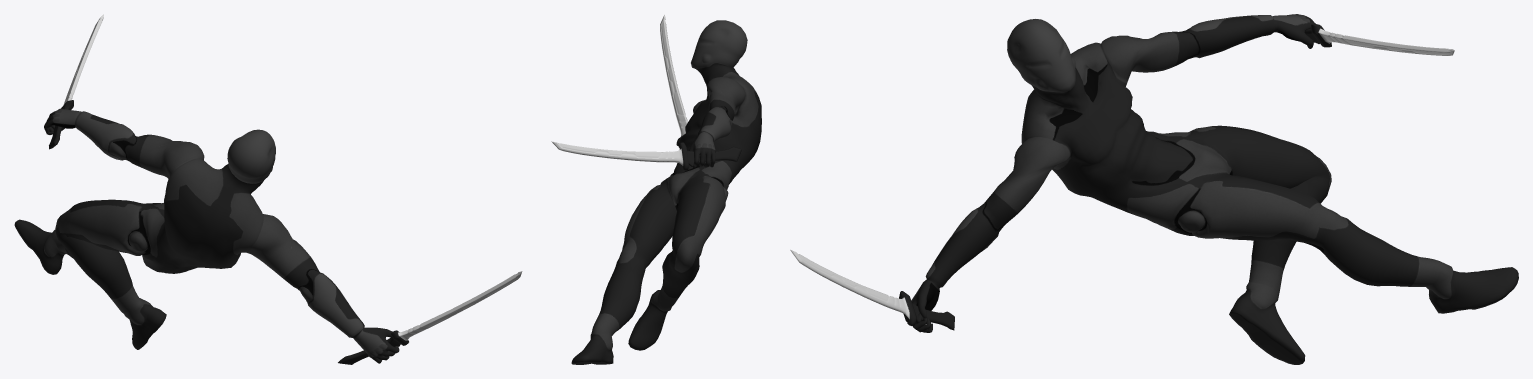
3 renders of one model, left to right at view 1: azimuth 30°, elevation 25°; view 2: azimuth 150°, elevation 25°; view 3: azimuth 270°, elevation 25°, orthographic. The views are drawn at different scales.
Visible parts, largest first — view 1: Cyborg_Ninja_Killer, Sword_l001, Sword_l; view 2: Cyborg_Ninja_Killer, Sword_l, Sword_l001; view 3: Cyborg_Ninja_Killer, Sword_l001, Sword_l.
Boxes of the visible parts, x1,y1,x2,y2 form: Cyborg_Ninja_Killer: (14, 108, 399, 363); Sword_l001: (338, 271, 522, 364); Sword_l: (49, 14, 103, 149); Cyborg_Ninja_Killer: (571, 20, 761, 364); Sword_l: (551, 141, 741, 170); Sword_l001: (660, 14, 687, 146); Cyborg_Ninja_Killer: (907, 14, 1518, 364); Sword_l001: (790, 250, 954, 330); Sword_l: (1304, 24, 1454, 55).
Size of the model in its own units: 126 by 124 by 234.
Materials: 2 (2 with a texture image).
